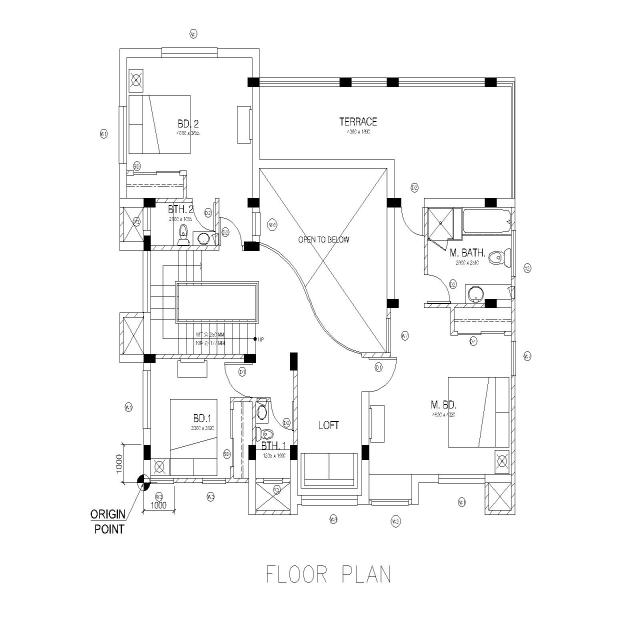Column: (289, 351, 299, 372), (243, 240, 260, 252), (484, 196, 498, 210), (246, 76, 262, 88), (386, 197, 402, 209), (142, 352, 158, 364), (246, 196, 261, 208), (360, 444, 370, 462), (247, 444, 257, 462), (142, 234, 152, 252), (484, 76, 498, 88), (339, 76, 353, 88), (386, 298, 400, 310), (483, 298, 498, 309), (289, 443, 298, 461), (143, 444, 152, 462), (143, 197, 156, 209), (243, 352, 257, 363), (386, 77, 400, 87)
Door: (249, 362, 256, 400), (362, 356, 368, 394), (268, 396, 296, 404), (216, 243, 242, 251), (399, 204, 424, 212), (190, 196, 214, 204), (426, 237, 449, 243), (424, 274, 428, 304)
Sliding Door: (131, 169, 182, 176), (230, 405, 235, 468), (456, 329, 505, 335)
Ventilator: (142, 204, 152, 232), (511, 228, 516, 278), (262, 477, 284, 485)
Window: (161, 46, 219, 59), (301, 494, 359, 507), (118, 104, 130, 166), (436, 472, 486, 486), (142, 368, 152, 431), (372, 498, 411, 508), (510, 338, 517, 378), (201, 476, 227, 486), (149, 475, 175, 485)
